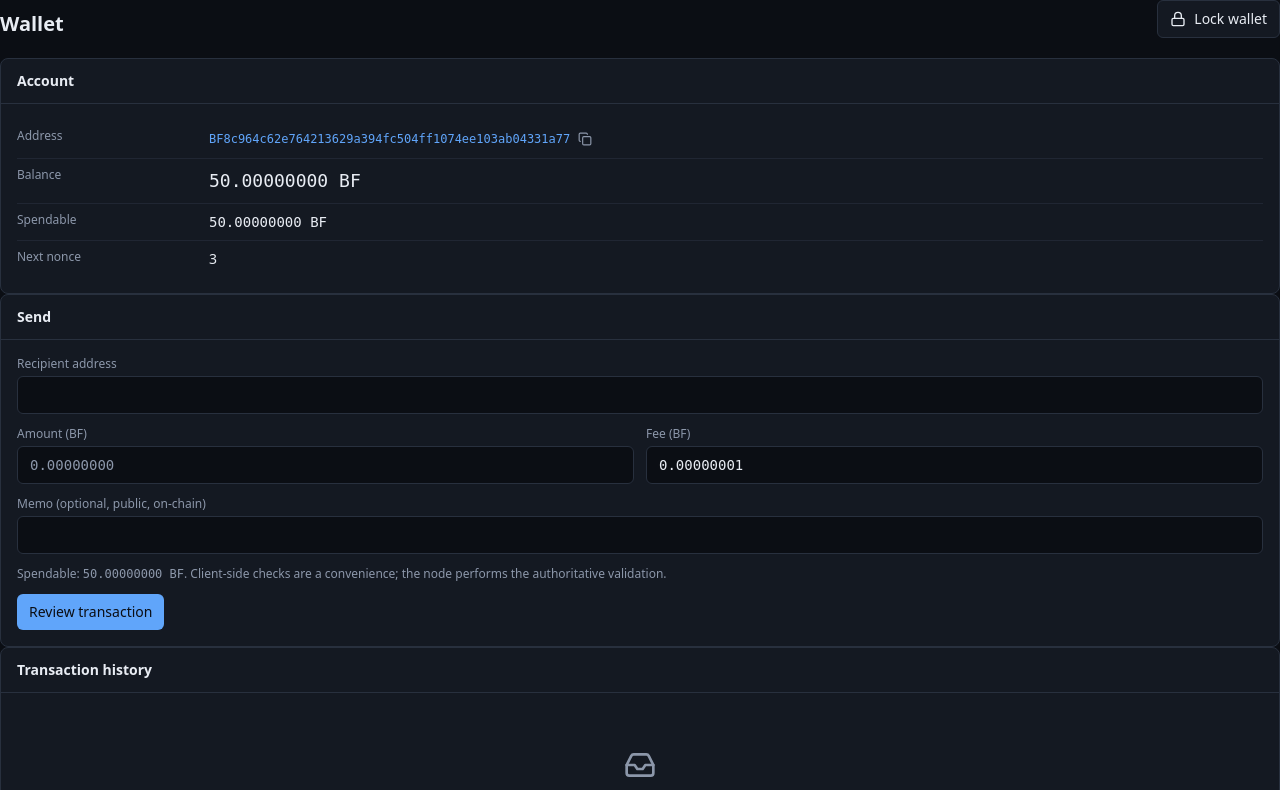
Wallet › requires confirmation, then signs with a fresh nonce and submits exactly once
In the field labelled "Recipient address": (640,395) left=17, top=376, right=1263, bottom=414, type "BFaf24e45b5c7a186d9444b33f045e6f13f8bd6d0dd95cf396"
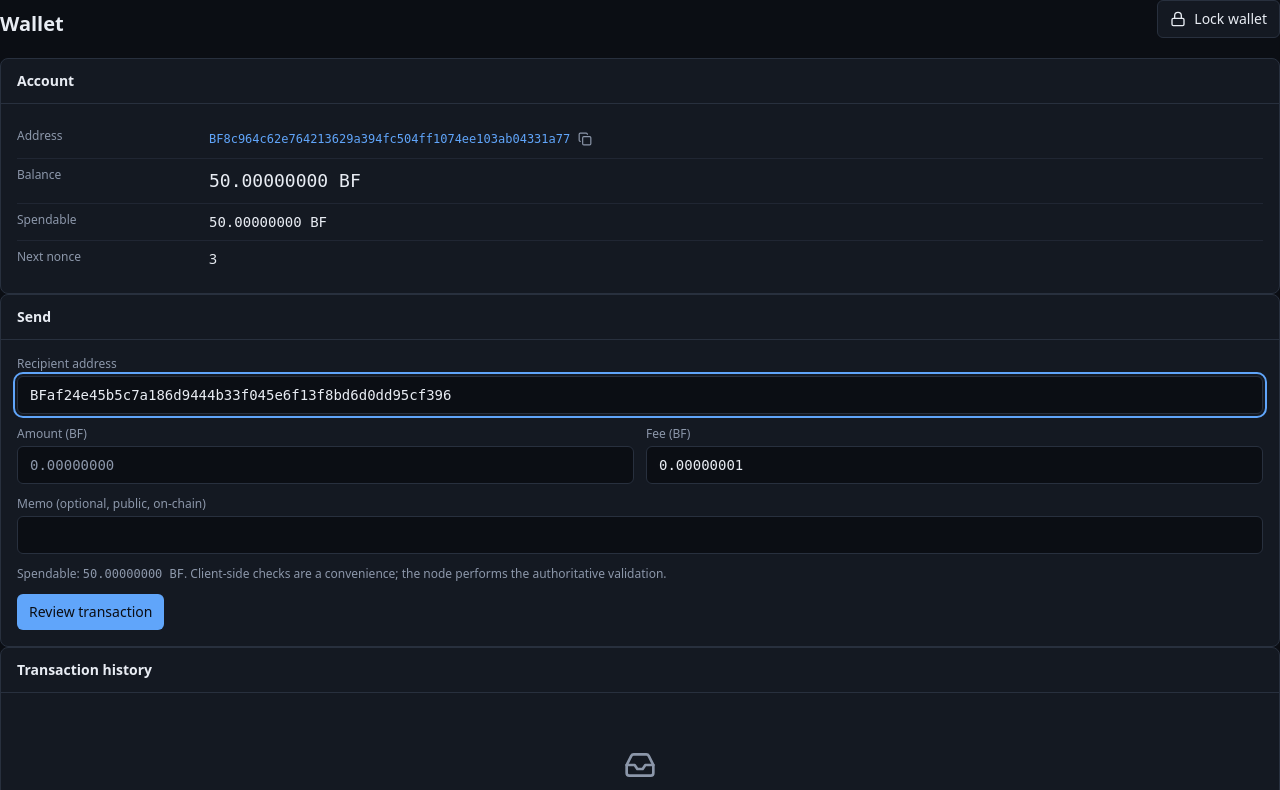
In the field labelled "Amount (BF)": (326,465) left=17, top=446, right=634, bottom=484, type "1.5"
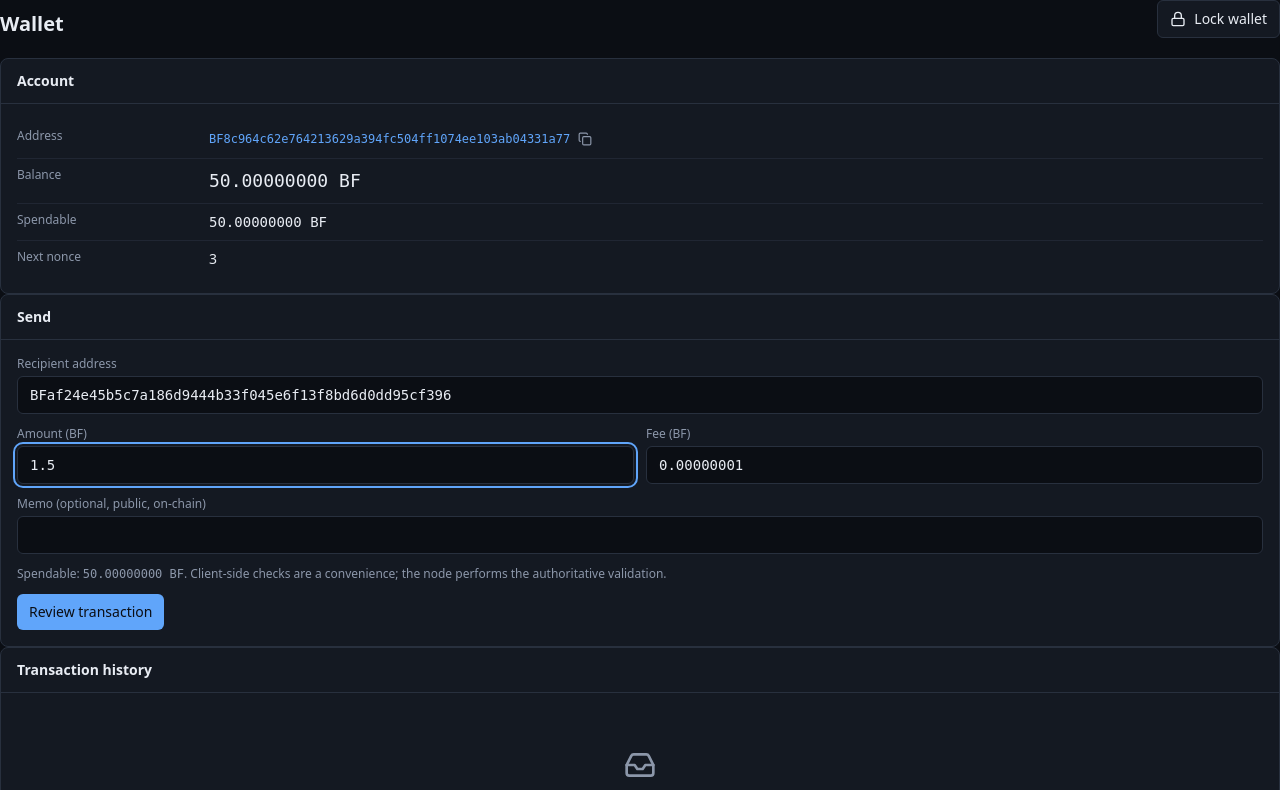
Click the button "Review transaction": (91,612) left=17, top=594, right=164, bottom=630
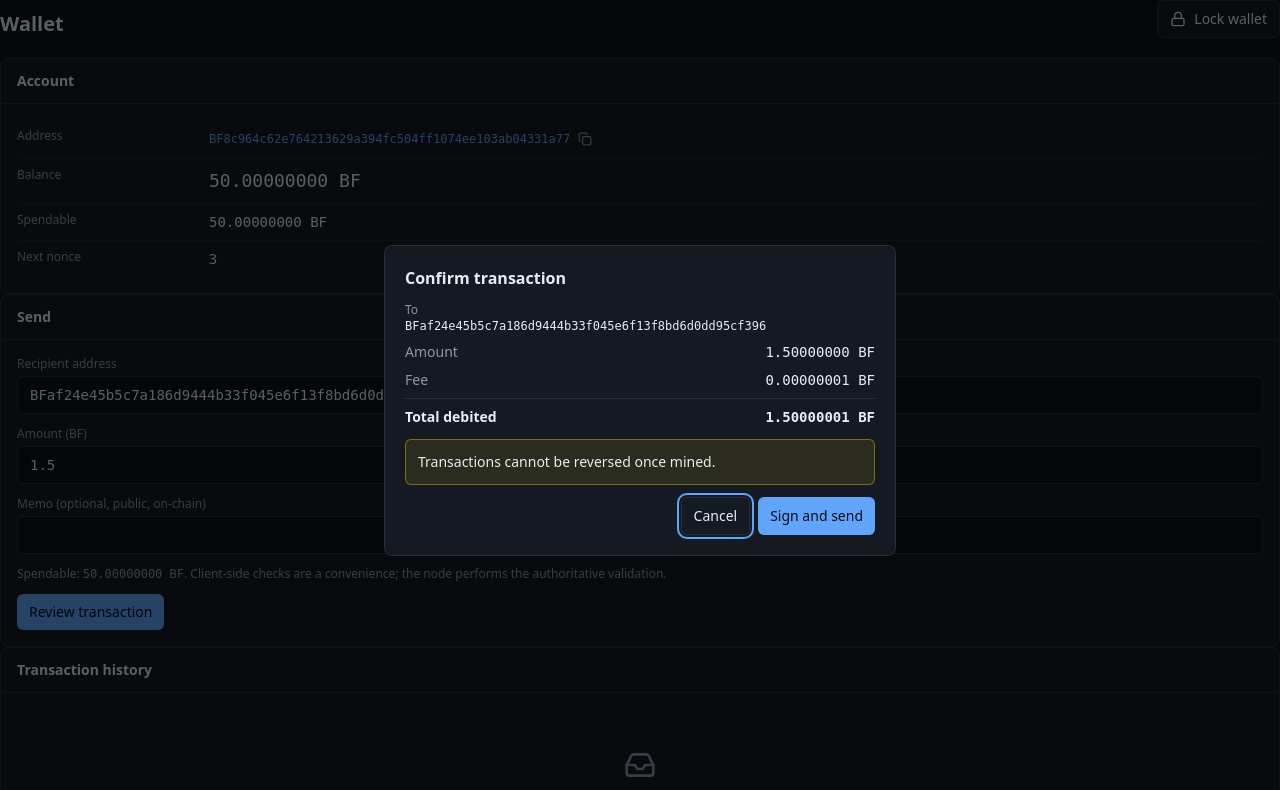
expect the text "1.50000000 BF" is shown: met, box left=765, top=342, right=875, bottom=362
expect the text "Total debited" is shown: met, box left=405, top=406, right=497, bottom=426
Click the button "Sign and send": (817,516) left=758, top=496, right=875, bottom=534
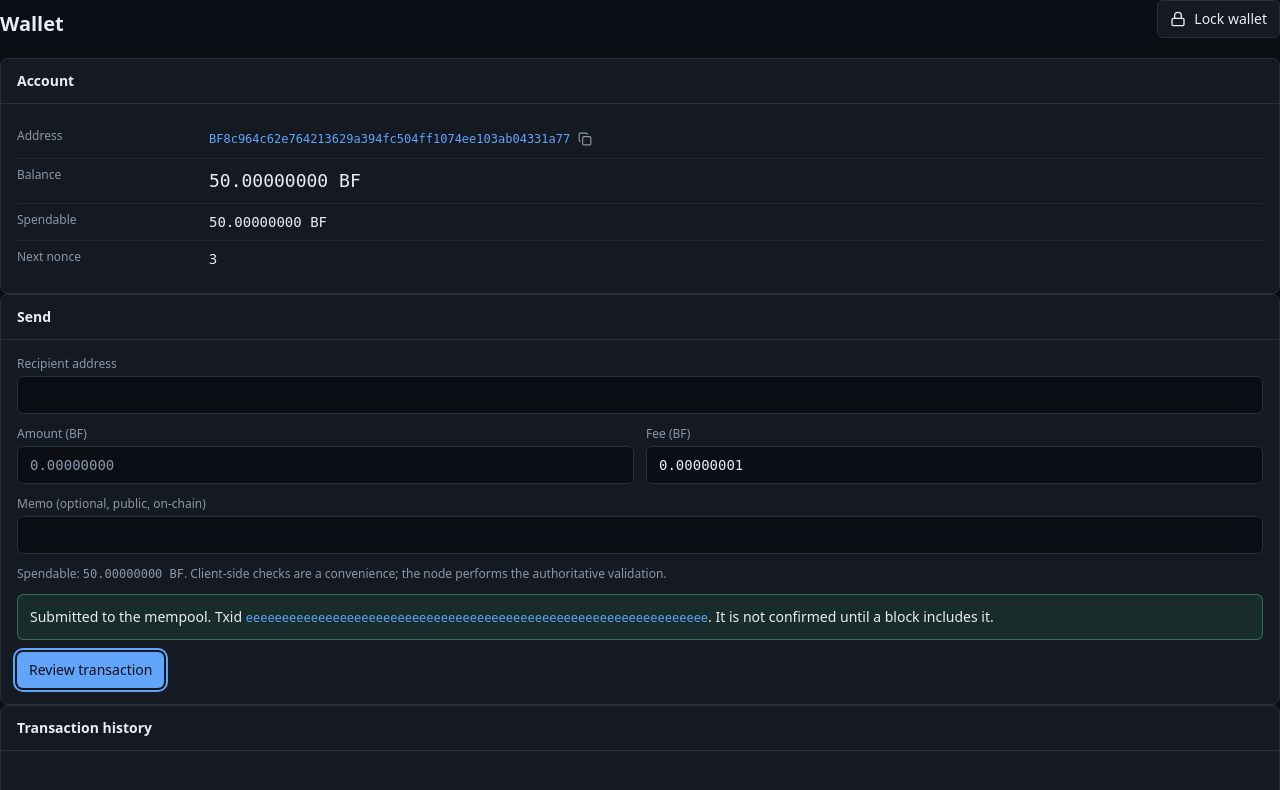
expect the text "Submitted to the mempool" is shown: met, box left=30, top=607, right=246, bottom=626
